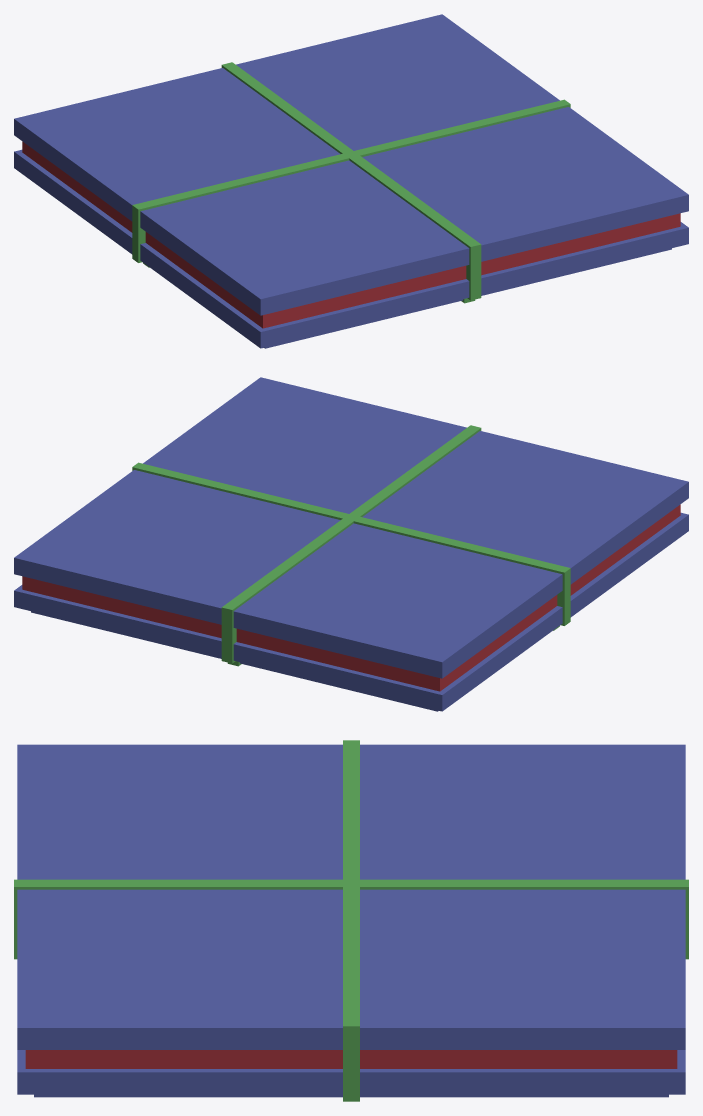
Rendered from SM_MovingPlatform_03.fbx.
3 views of the same model, one above another, from view 1: azimuth 30°, elevation 25°; view 2: azimuth 150°, elevation 25°; view 3: azimuth 270°, elevation 25° (orthographic). The views are drawn at different scales.
Visible parts, largest first — view 1: SM_MovingPlatform_03; view 2: SM_MovingPlatform_03; view 3: SM_MovingPlatform_03.
Boxes of the visible parts, bbox=[...] form: SM_MovingPlatform_03: bbox=[14, 14, 688, 348]; SM_MovingPlatform_03: bbox=[14, 377, 688, 711]; SM_MovingPlatform_03: bbox=[14, 740, 688, 1101].
Size of the model in its own units: 404 by 54.3 by 403.
